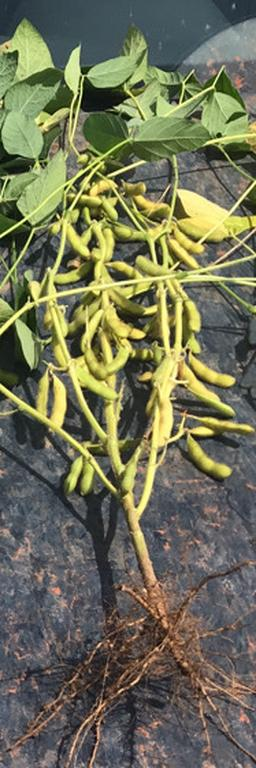pod: (186, 438, 235, 484), (79, 370, 121, 402), (192, 358, 237, 386), (191, 415, 255, 433), (53, 259, 92, 288), (54, 460, 86, 494), (53, 376, 66, 438), (36, 368, 51, 420), (85, 351, 107, 379), (83, 461, 97, 496), (186, 426, 220, 435)
soy: (15, 34, 256, 736)
